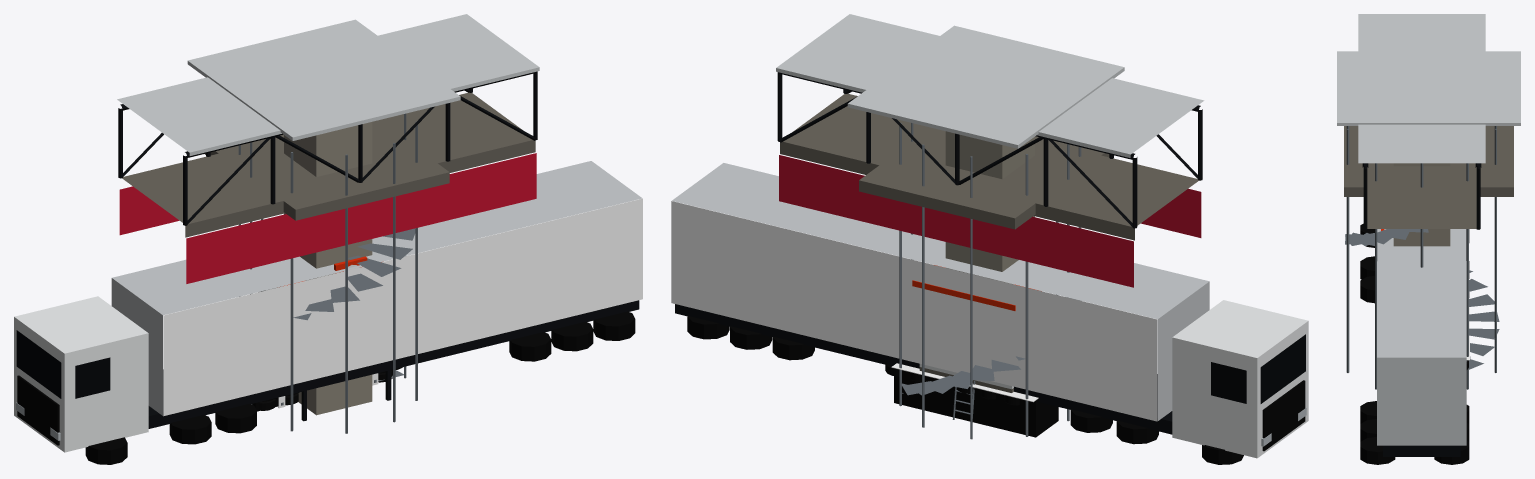
Rendered from furniture.glb.
3 views of the same model, side by side, from view 1: azimuth 30°, elevation 25°; view 2: azimuth 150°, elevation 25°; view 3: azimuth 270°, elevation 25° (orthographic). The views are drawn at different scales.
Visible parts, largest first — view 1: BridgeSpan, TransporterLivery, Transporter, BridgeTower, MarshalPost; view 2: BridgeSpan, TransporterLivery, Transporter, BridgeTower, TyreWall, MarshalPost; view 3: BridgeTower, Transporter, BridgeSpan.
Part boxes in pixels (x1,y1,x2,y2): BridgeSpan: (117, 14, 539, 283); TransporterLivery: (163, 198, 642, 416); Transporter: (14, 161, 642, 464); BridgeTower: (187, 19, 460, 433); MarshalPost: (258, 256, 391, 421); BridgeSpan: (776, 14, 1204, 287); TransporterLivery: (671, 201, 1157, 421); Transporter: (672, 163, 1308, 464); BridgeTower: (847, 25, 1124, 439); TyreWall: (885, 362, 1058, 437); MarshalPost: (912, 265, 1041, 419); BridgeTower: (1337, 51, 1520, 389); Transporter: (1360, 223, 1469, 464); BridgeSpan: (1358, 14, 1485, 229).
Size of the model in its own units: 16.56 by 8.6 by 5.2.
